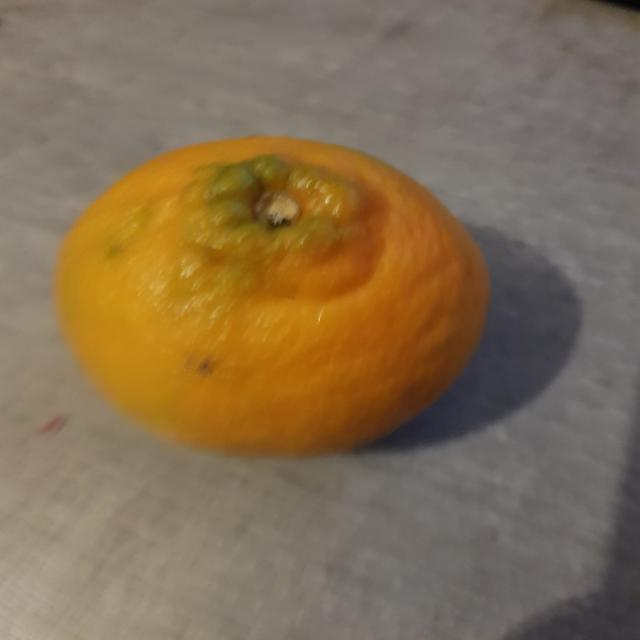Orange: (52, 136, 491, 461)
